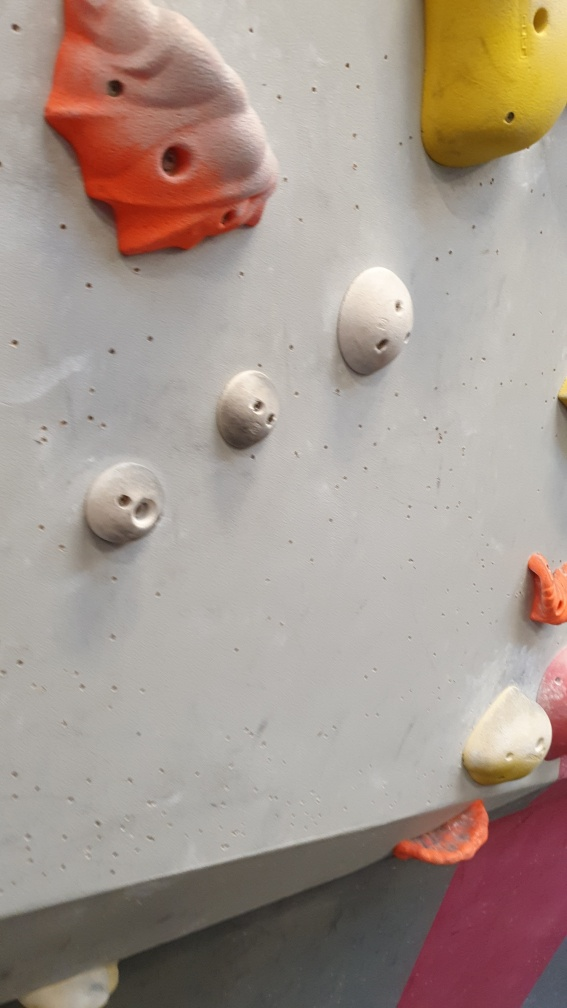Jug: (43, 1, 285, 266), (386, 796, 493, 867), (521, 553, 567, 629)
Sloper: (334, 265, 415, 379), (83, 454, 168, 549), (211, 367, 287, 453)
